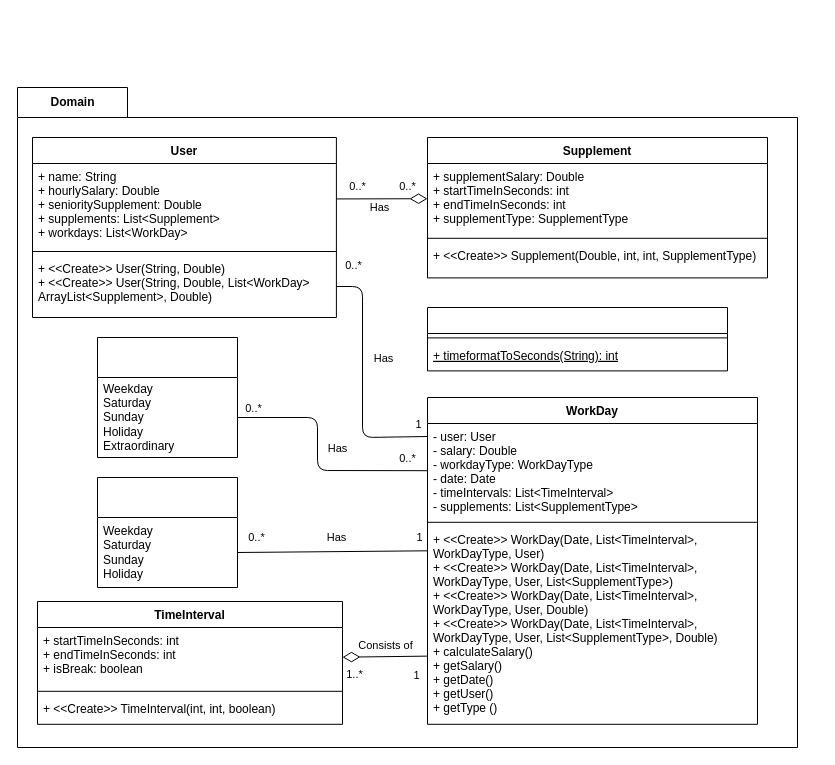
This 835x765 diagram has some shape labels left out. The shapes that lost their labels are listed below. From the top down, each one's box as (x1, y1, x2, y2) in pixels, then its label:
(426, 306, 728, 371): TimeFormatParser
(96, 336, 238, 458): <<enumeration>> SupplementType
(96, 476, 238, 588): <<enumeration>> WorkDayType
